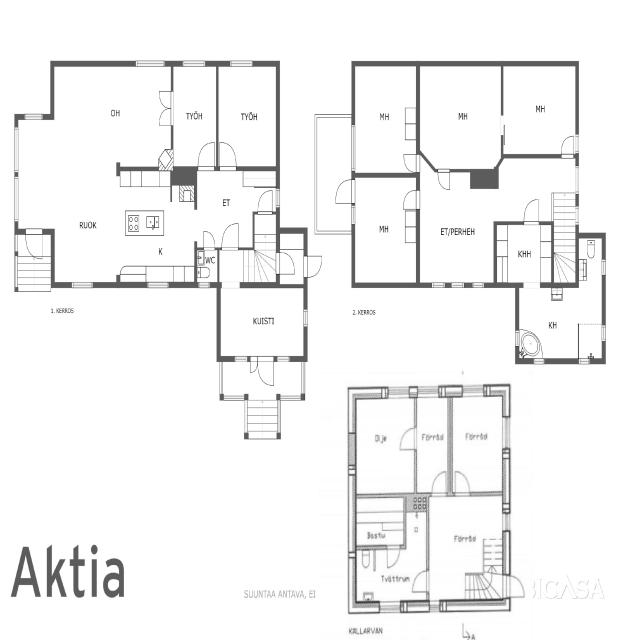door: (195, 137, 217, 170), (156, 91, 175, 129), (218, 137, 239, 169), (276, 250, 300, 278), (256, 356, 276, 388), (397, 424, 419, 453), (24, 227, 45, 257), (220, 220, 240, 251), (410, 567, 431, 596), (452, 466, 472, 496), (332, 176, 353, 204), (256, 187, 276, 216), (522, 197, 542, 225), (506, 571, 527, 597), (430, 468, 448, 497), (384, 542, 402, 570), (303, 254, 324, 278), (401, 187, 421, 211), (435, 163, 452, 191), (401, 148, 419, 174), (559, 132, 577, 156), (156, 147, 174, 171), (200, 227, 217, 251)
window: (12, 121, 22, 223), (501, 412, 512, 454), (349, 121, 358, 172), (376, 598, 404, 614), (414, 382, 442, 398), (132, 56, 168, 68), (384, 384, 412, 399), (12, 174, 20, 223), (12, 125, 20, 174), (179, 56, 209, 69), (460, 382, 486, 397), (20, 109, 47, 123), (227, 56, 256, 68), (428, 279, 458, 290), (574, 163, 581, 206), (501, 508, 512, 534), (68, 279, 95, 289), (145, 279, 171, 289), (427, 597, 443, 613), (278, 392, 304, 401), (302, 306, 310, 329), (274, 187, 282, 210), (231, 353, 249, 363), (350, 202, 357, 225), (470, 280, 486, 290), (513, 326, 520, 348), (576, 355, 592, 364), (276, 354, 291, 363), (574, 204, 580, 226), (574, 133, 580, 154), (532, 356, 546, 365), (601, 256, 607, 276), (601, 322, 607, 342), (197, 280, 212, 288)
zone: (53, 172, 196, 290), (52, 62, 174, 171), (418, 63, 503, 171), (418, 170, 496, 286), (428, 494, 508, 602), (352, 62, 419, 175), (352, 173, 418, 286), (501, 64, 577, 156), (192, 168, 273, 250), (217, 62, 278, 169), (515, 286, 600, 361), (353, 392, 415, 494), (218, 286, 306, 357), (450, 392, 506, 494), (494, 158, 577, 221), (172, 64, 218, 169), (353, 548, 423, 606), (494, 223, 554, 285), (416, 392, 450, 492), (356, 496, 406, 548), (277, 230, 306, 283), (578, 234, 604, 288), (195, 247, 218, 283)
